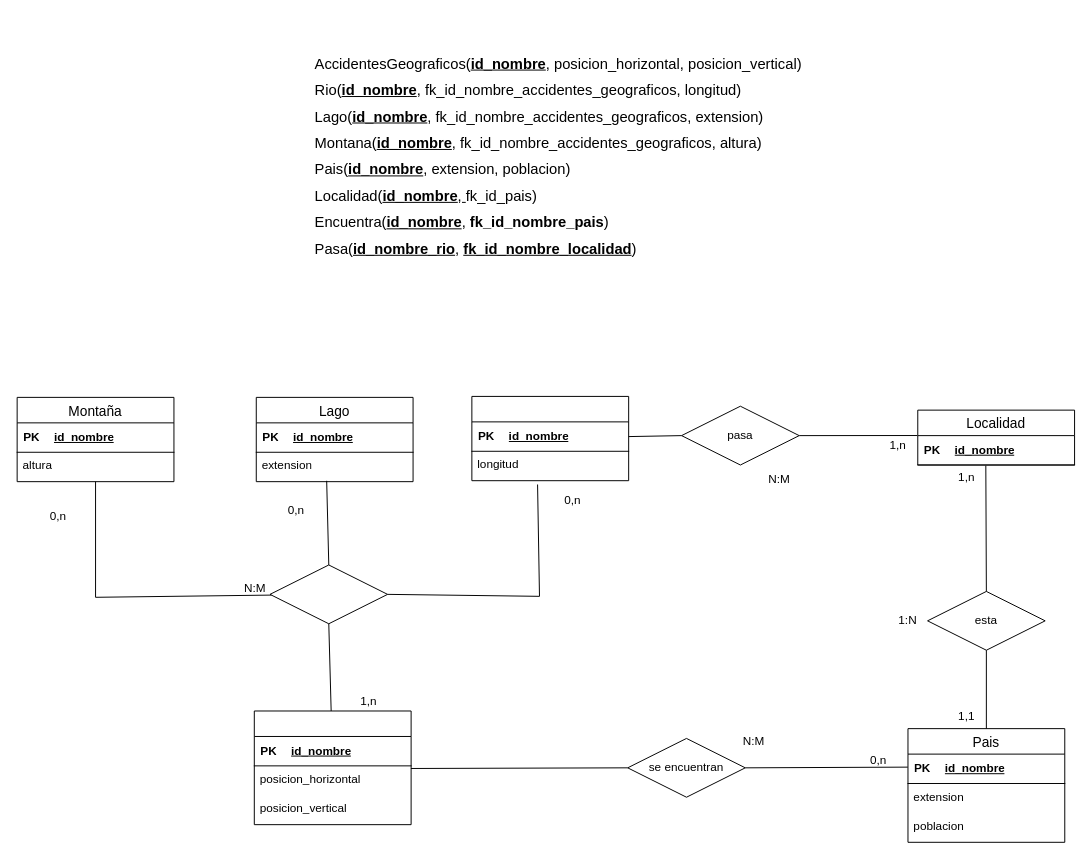
Some shapes in this 1092 by 861 pixel diagram are drawn without their labels. Here are the shapes that lost their labels. From the top down, the box of each, then its label:
(471, 395, 629, 481): Rio
(269, 564, 388, 624): pueden ser
(253, 710, 411, 825): Accidentes Geograficos
